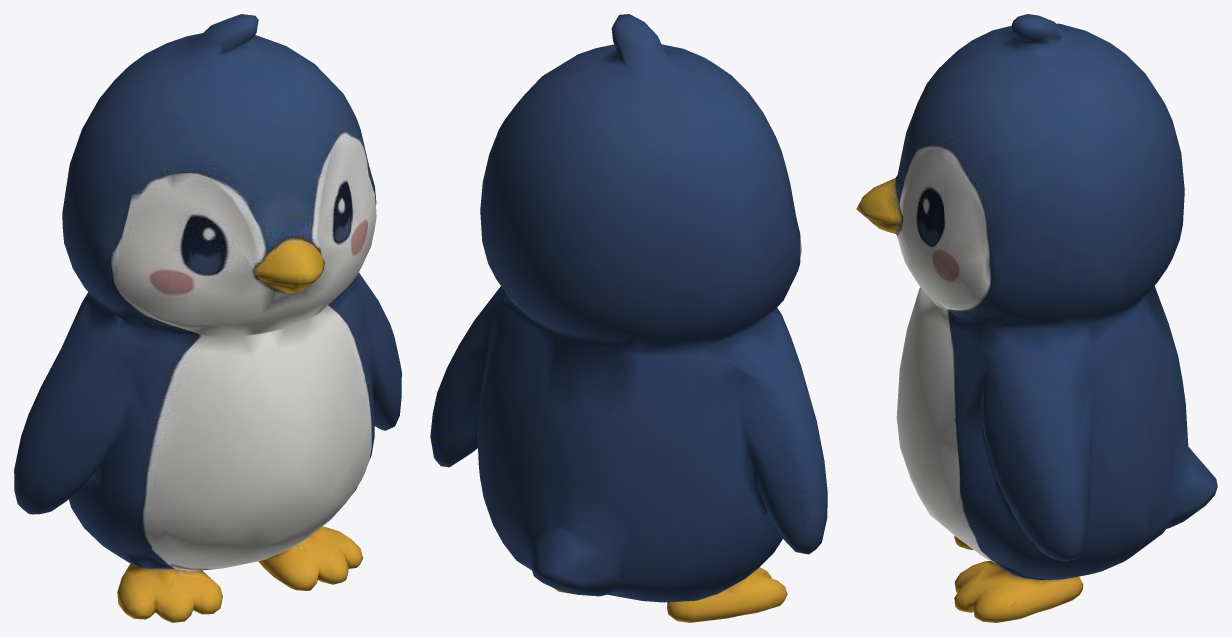
Rendered from penguin.glb.
The picture shows the model from 3 angles, left to right: view 1: azimuth 30°, elevation 25°; view 2: azimuth 150°, elevation 25°; view 3: azimuth 270°, elevation 25°; orthographic projection. The views are drawn at different scales.
Visible parts, largest first — view 1: model; view 2: model; view 3: model.
Boxes of the visible parts, x1,y1,x2,y2 form: model: (14,14,401,622); model: (430,14,827,622); model: (856,14,1217,622).
Size of the model in its own units: 1.35 by 1.89 by 1.1.
1 material, 1 textured.
